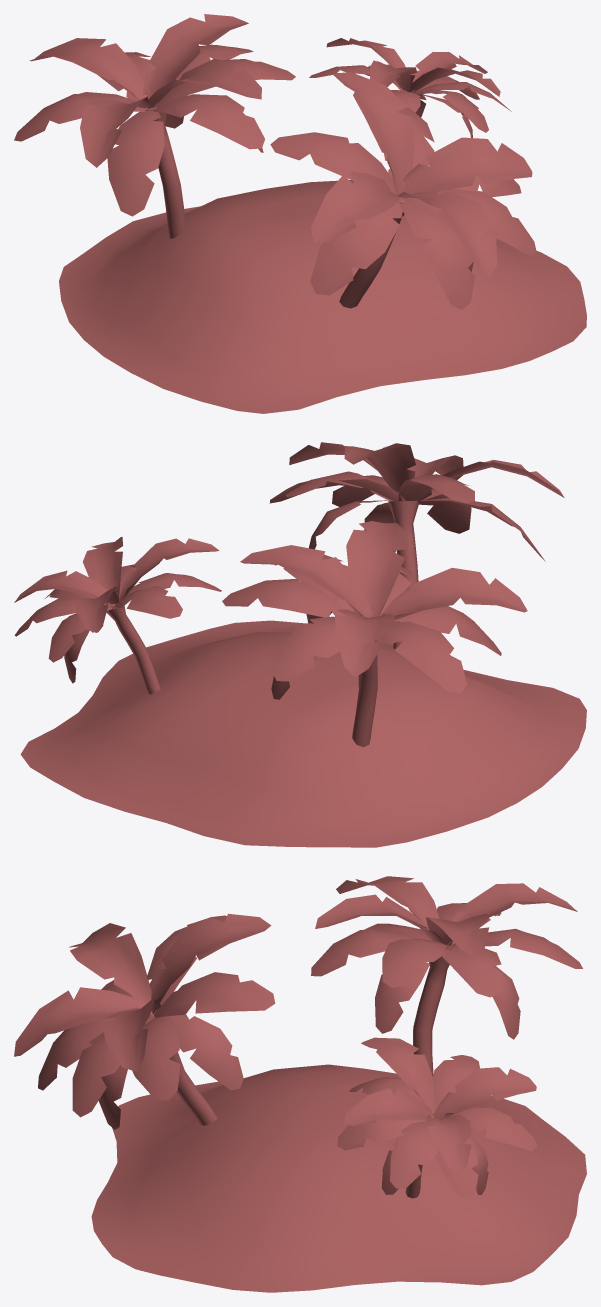
File: SM_Motu.fbx
3 views of the same model, one above another, from view 1: azimuth 30°, elevation 25°; view 2: azimuth 150°, elevation 25°; view 3: azimuth 270°, elevation 25° (orthographic).
Parts seen in each view (by area): view 1: SM_Motu; view 2: SM_Motu; view 3: SM_Motu.
Boxes of the visible parts, x1=… form: SM_Motu: x1=14, y1=14, x2=586, y2=413; SM_Motu: x1=14, y1=442, x2=586, y2=847; SM_Motu: x1=14, y1=876, x2=586, y2=1292.
Bounding box in the file's own units: 44.7 × 23.94 × 48.04.
